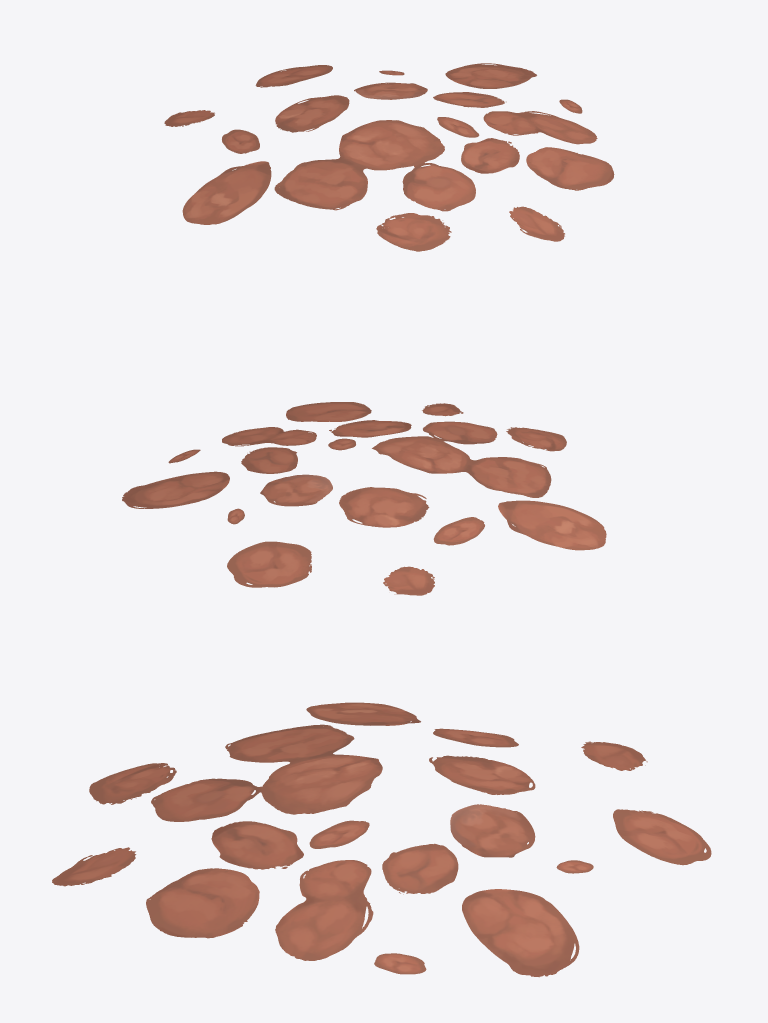
The model's file is PebblesSmall.fbx.
3 renders of one model, top to bottom at view 1: azimuth 30°, elevation 25°; view 2: azimuth 150°, elevation 25°; view 3: azimuth 270°, elevation 25°, orthographic. The views are drawn at different scales.
Visible parts, largest first — view 1: Rock_Small; view 2: Rock_Small; view 3: Rock_Small.
Boxes of the visible parts, x1,y1,x2,y2 form: Rock_Small: (164,63,614,251); Rock_Small: (122,402,606,595); Rock_Small: (52,702,711,977).
Bounding box in the file's own units: 69.06 × 7.64 × 69.06.
